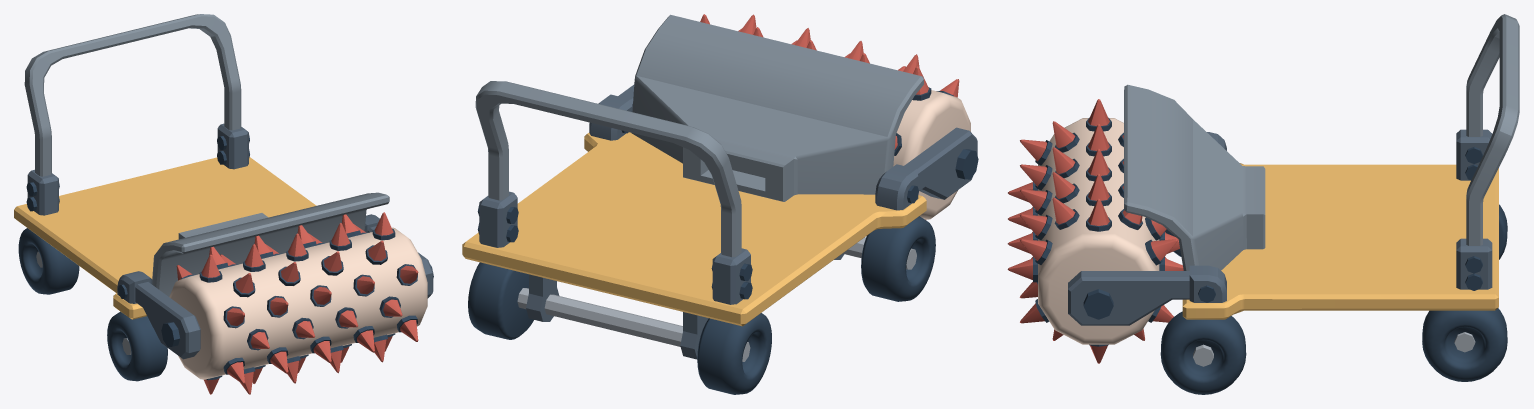
File: Carrier.fbx
The picture shows the model from 3 angles, left to right: view 1: azimuth 30°, elevation 25°; view 2: azimuth 150°, elevation 25°; view 3: azimuth 270°, elevation 25°; orthographic projection. The views are drawn at different scales.
Parts seen in each view (by area): view 1: Carrier_01, parcalayici; view 2: Carrier_01, parcalayici; view 3: Carrier_01, parcalayici.
Part boxes in pixels (x1,y1,x2,y2): Carrier_01: (14, 14, 433, 381); parcalayici: (161, 212, 433, 394); Carrier_01: (462, 14, 977, 394); parcalayici: (700, 14, 978, 219); Carrier_01: (1068, 14, 1519, 394); parcalayici: (1007, 99, 1183, 363).
Bounding box in the file's own units: 1.07 × 0.8588 × 1.52.
